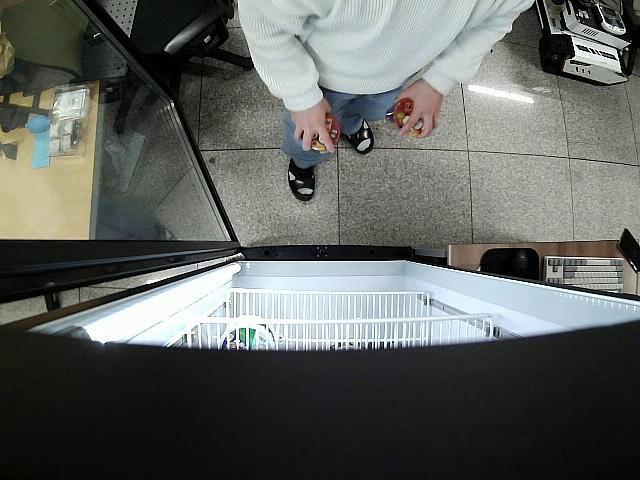06_nuguri_S: (384, 100, 424, 138), (301, 112, 338, 153)
